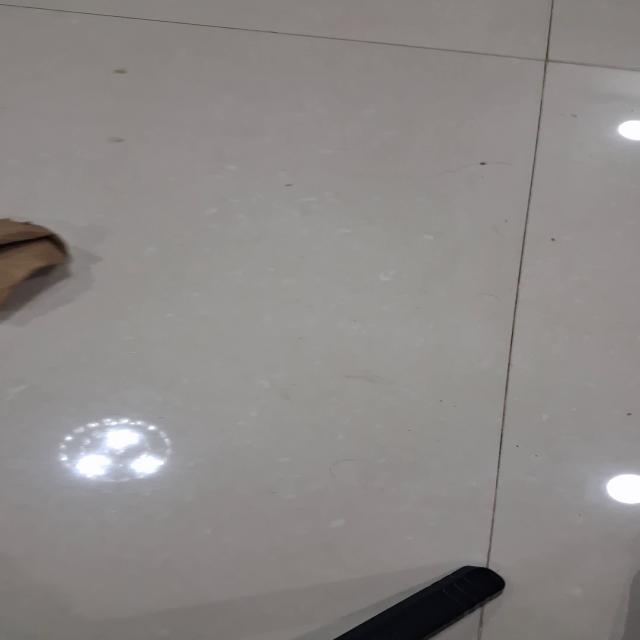paper: (2, 1, 637, 639)
